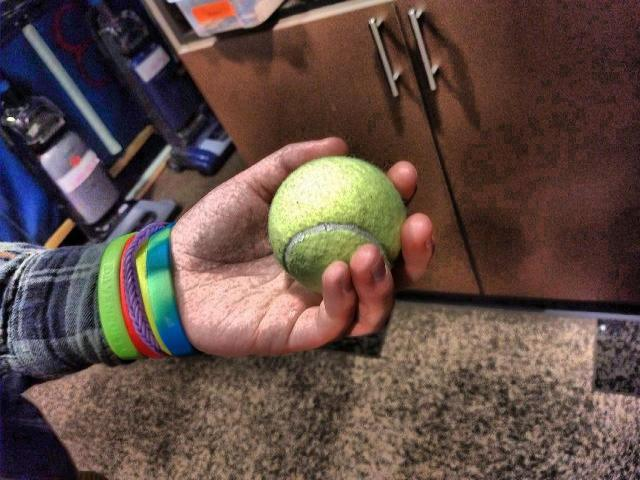tennis-ball: (266, 156, 411, 293)
